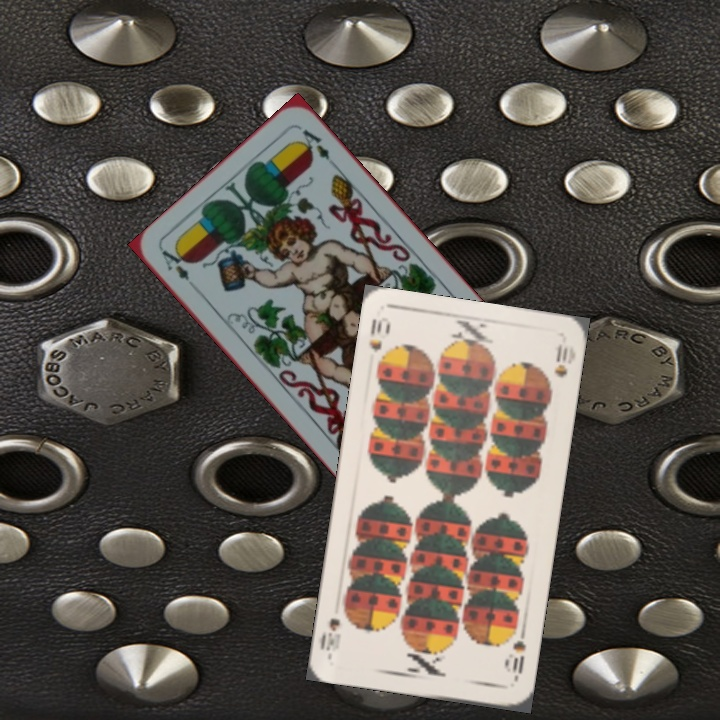EA: (157, 246, 192, 283)
S10: (364, 313, 393, 371), (508, 626, 529, 685)
